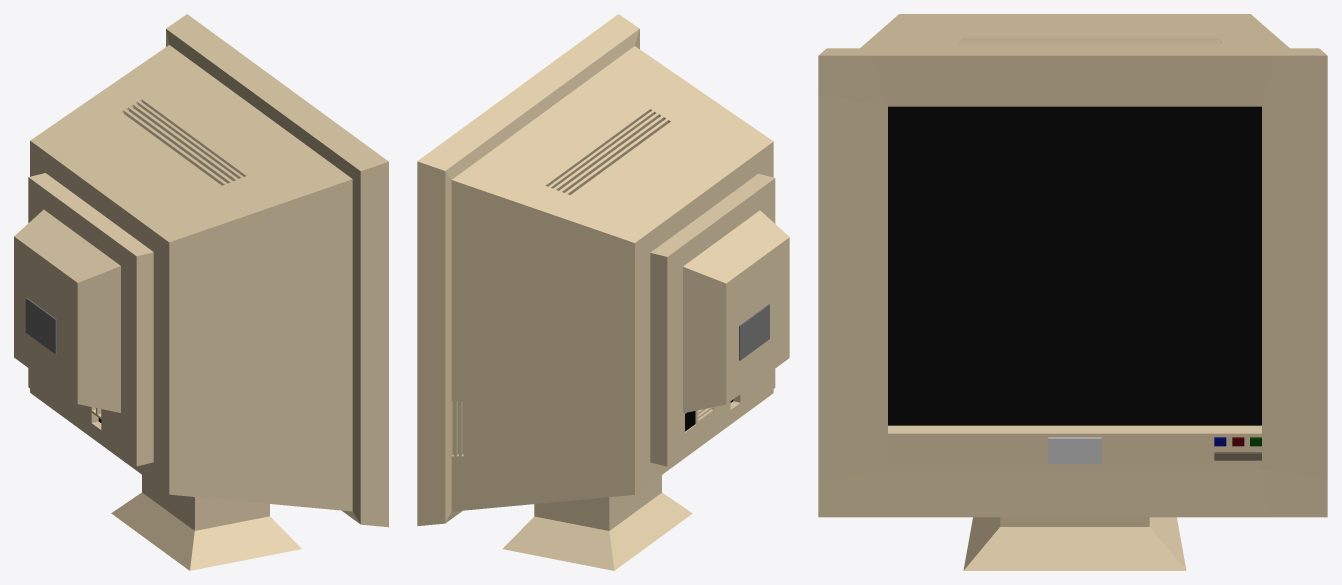
Rendered from computer.fbx.
3 renders of one model, left to right at view 1: azimuth 30°, elevation 25°; view 2: azimuth 150°, elevation 25°; view 3: azimuth 270°, elevation 25°, orthographic. The views are drawn at different scales.
Parts seen in each view (by area): view 1: Cube, Cube.008; view 2: Cube, Cube.008; view 3: Cube, Cube.001, Cube.002.
Boxes of the visible parts, x1,y1,x2,y2 form: Cube: (14, 14, 388, 570); Cube.008: (25, 297, 56, 354); Cube: (417, 14, 789, 570); Cube.008: (739, 304, 769, 360); Cube: (818, 14, 1327, 570); Cube.001: (888, 106, 1261, 425); Cube.002: (1048, 437, 1101, 463).
Size of the model in its own units: 89.02 by 147 by 127.
